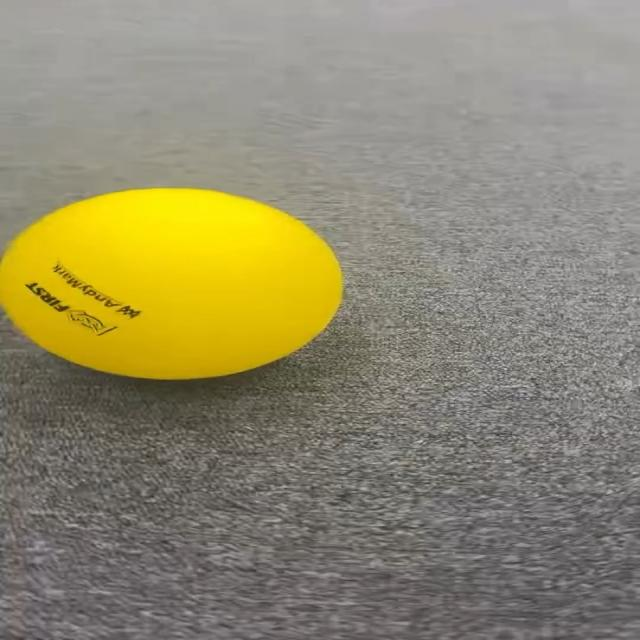Fuels: (2, 190, 342, 376)
